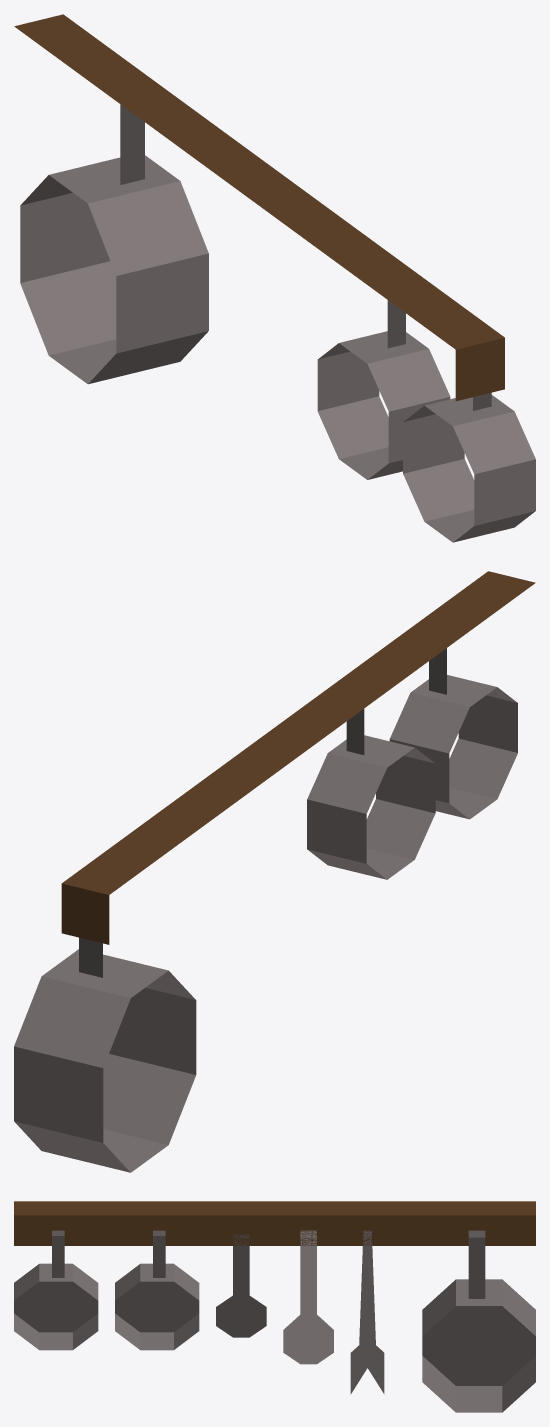
The picture shows the model from 3 angles, top to bottom: view 1: azimuth 30°, elevation 25°; view 2: azimuth 150°, elevation 25°; view 3: azimuth 270°, elevation 25°; orthographic projection. The views are drawn at different scales.
Bounding box in the file's own units: 16 × 48 × 124.
Materials: 1 (1 with a texture image).
